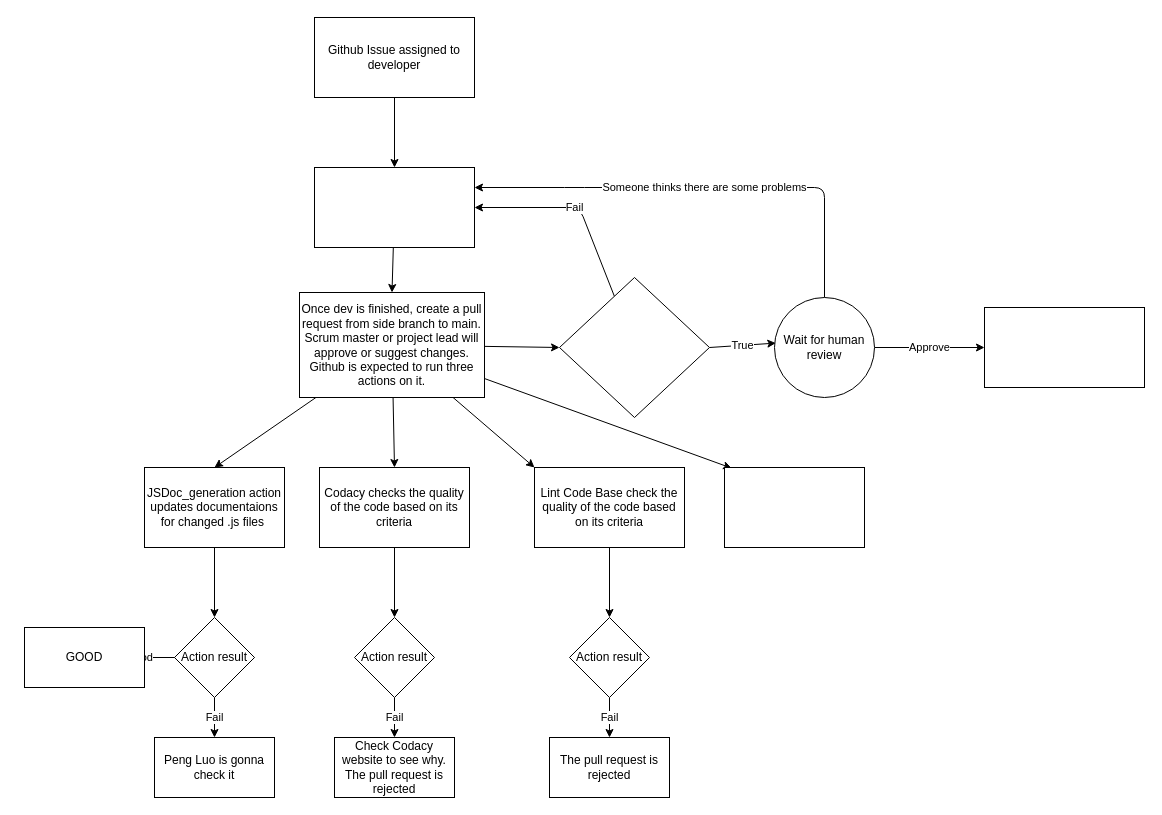
This 1162x815 diagram has some shape labels left out. The box of each missing label's shape, as (x1, y1, x2, y2) in pixels:
Auto Test (not finished yet): (724, 466, 864, 548)
Checkout into branch and begin development: (314, 166, 474, 248)
Deployed to production via Github Pages via Github Actions (not yet implemented): (984, 306, 1144, 388)
Pass all actions? Or all actions excpet JSDoc_generation: (558, 276, 710, 418)
